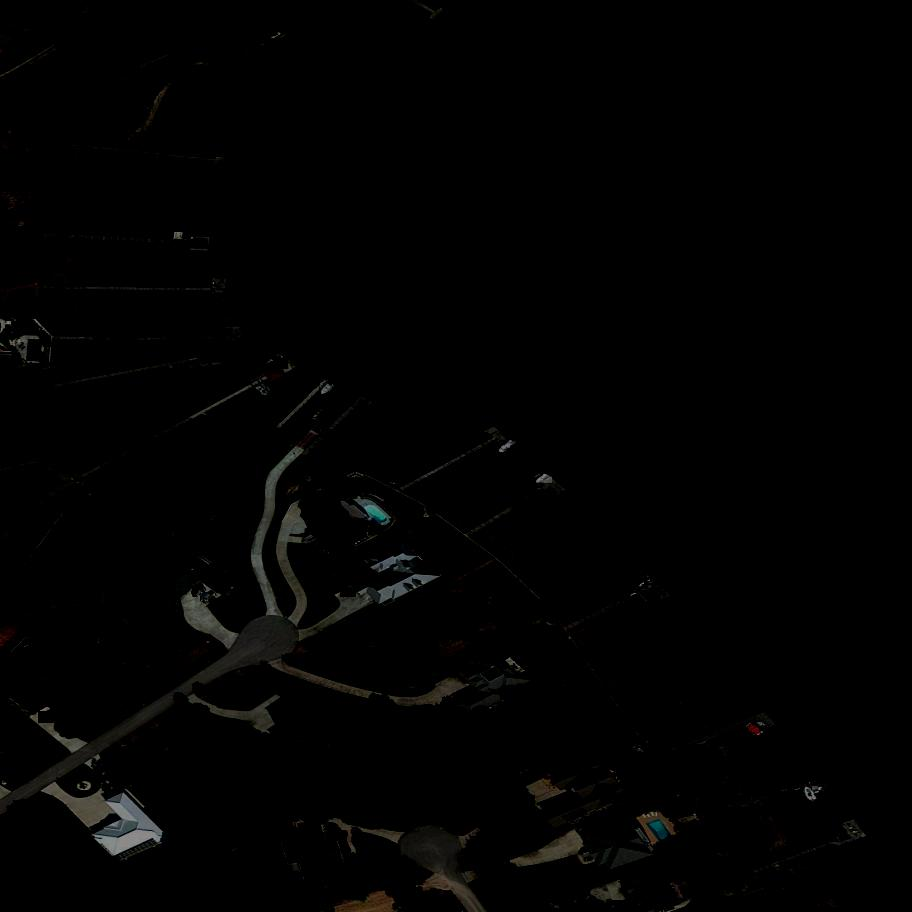ship: (263, 352, 289, 372), (500, 439, 520, 459), (747, 720, 766, 738), (803, 785, 820, 805), (252, 384, 271, 400), (320, 381, 336, 399), (536, 473, 553, 489), (313, 407, 328, 425)
small-vehicle: (38, 710, 53, 725), (442, 696, 456, 712), (340, 586, 357, 598), (201, 591, 216, 604), (193, 584, 205, 598)
